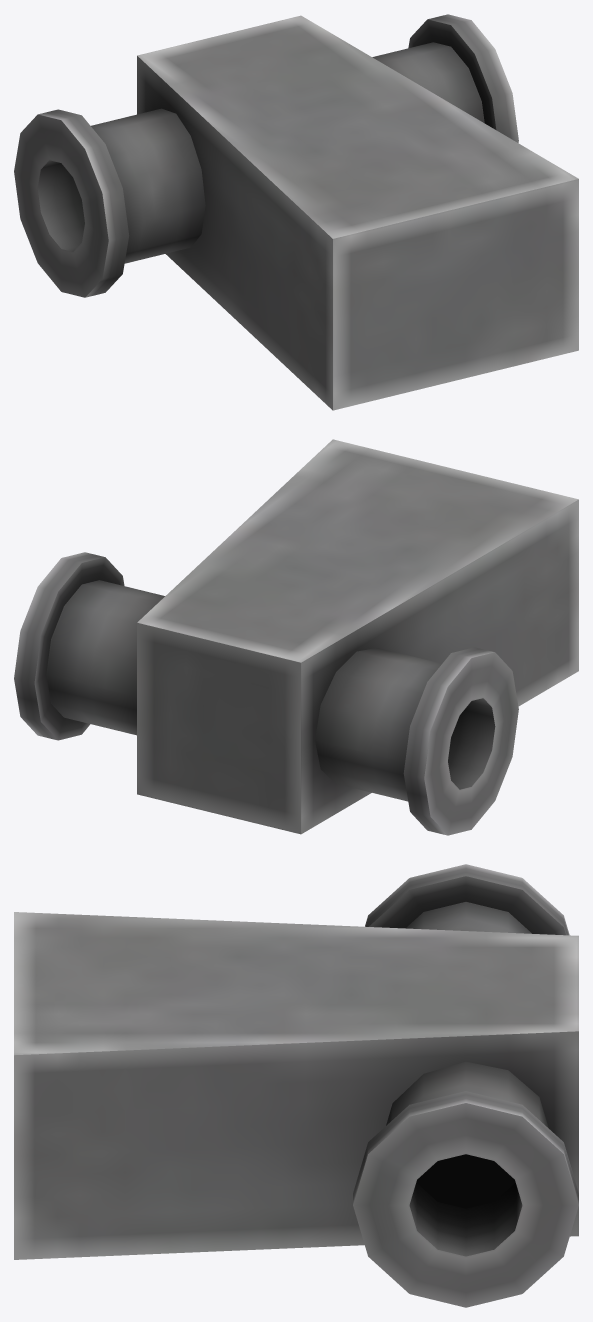
File: sp_rcs_srf_2.obj
The picture shows the model from 3 angles, top to bottom: view 1: azimuth 30°, elevation 25°; view 2: azimuth 150°, elevation 25°; view 3: azimuth 270°, elevation 25°; orthographic projection. The views are drawn at different scales.
Parts seen in each view (by area): view 1: mesh1; view 2: mesh1; view 3: mesh1.
Boxes of the visible parts, <box> form: mesh1: <box>14,14,578,410</box>; mesh1: <box>14,439,578,835</box>; mesh1: <box>14,864,578,1307</box>.
Size of the model in its own units: 0.125 by 0.05 by 0.125.
Materials: 1 (1 with a texture image).
